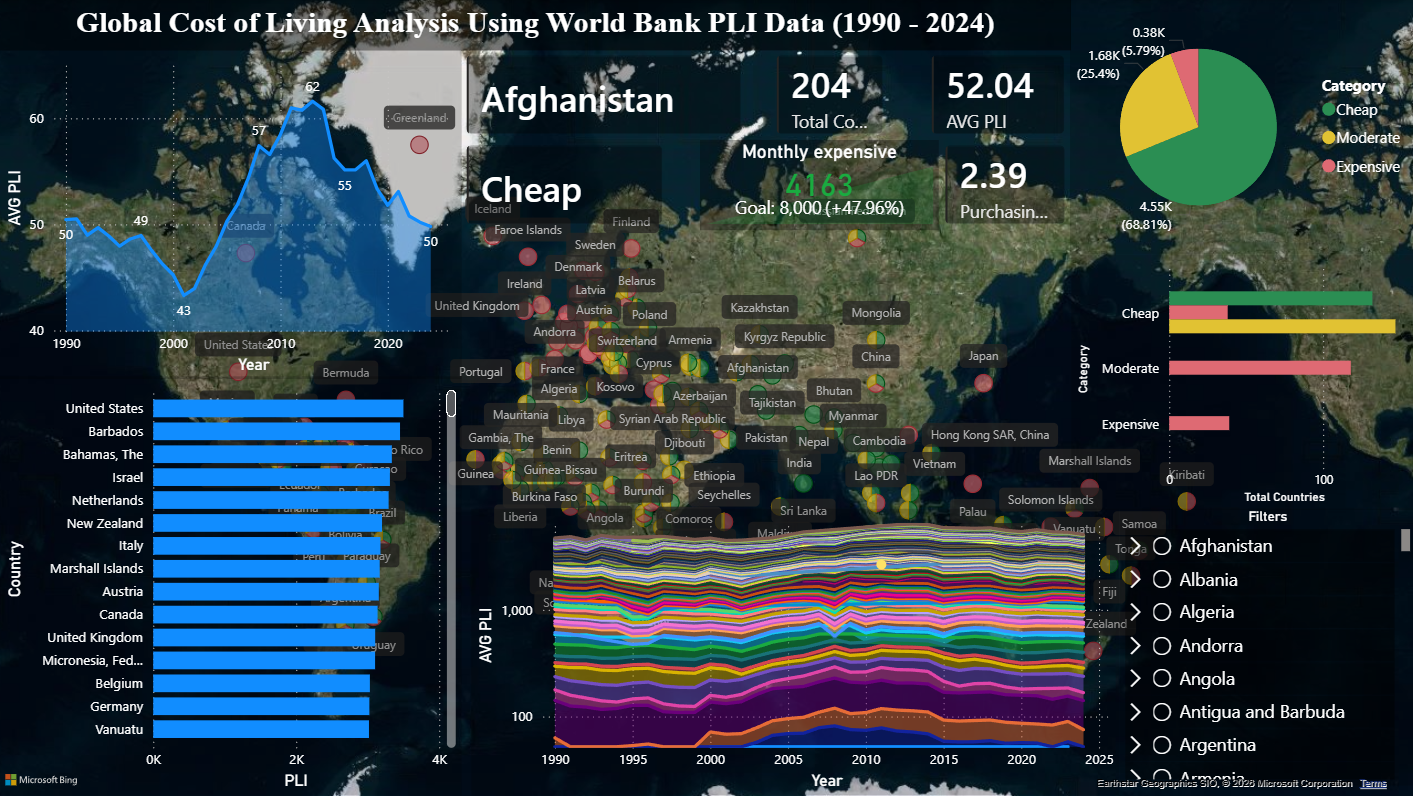

Layout of this report page (visuals, bound fields, positions):
{"tool":"powerbi","page":{"name":"Page 1","canvas":[1280,720],"ordinal":0},"visuals":[{"type":"cardVisual","fields":{"Data":["filtered_data.AVG PLI","filtered_data.Purchasing Power"]},"box":[974.4,0,305.8,81.4],"z":0},{"type":"areaChart","fields":{"Category":["filtered_data.Year"],"Y":["filtered_data.AVG PLI"]},"box":[0,81.4,417.4,297.7],"z":1000},{"type":"map","fields":{"Category":["filtered_data.Country"],"Series":["filtered_data.Dynamic_Category"]},"box":[397.9,378.7,570.8,341.7],"z":2000},{"type":"barChart","fields":{"Category":["filtered_data.Country"],"Y":["Sum(filtered_data.PLI)"]},"box":[0,460.5,397.7,259.3],"z":3000},{"type":"pieChart","fields":{"Category":["filtered_data.Category"],"Y":["CountNonNull(filtered_data.Country)"]},"box":[967.8,81.4,312.1,188.8],"z":4000},{"type":"listSlicer","title":"Filters","fields":{"Values":["filtered_data.Country","filtered_data.Category"]},"box":[968.6,510.5,311.6,209.3],"z":5000},{"type":"clusteredBarChart","fields":{"Category":["filtered_data.Category"],"Series":["filtered_data.Dynamic_Category"],"Y":["filtered_data.Total Countries"]},"box":[968.6,269.8,311.6,241.9],"z":6000},{"type":"stackedAreaChart","fields":{"Category":["filtered_data.Year"],"Series":["filtered_data.Country"],"Y":["filtered_data.AVG PLI"]},"box":[417.2,81.4,551.8,297.4],"z":7000},{"type":"cardVisual","fields":{"Data":["Min(filtered_data.Country)"]},"box":[0,0,216.3,81.4],"z":8000},{"type":"cardVisual","fields":{"Data":["filtered_data.Total Countries"]},"box":[208.1,0,120.9,81.4],"z":9000},{"type":"textbox","box":[329.1,0,661.6,81.4],"z":10000},{"type":"cardVisual","fields":{"Data":["Min(filtered_data.Dynamic_Category)"]},"box":[0,379.1,181.4,81.4],"z":10001},{"type":"kpi","title":"Monthly expensive","fields":{"Goal":["Base Cost.Base Cost Value"],"TrendLine":["Base Cost.Base Cost"],"Indicator":["Base Cost.Monthly_Cost"]},"box":[181.4,379.1,216.3,81.4],"z":10002}]}

Visuals, with their boxes in screenshot pixels (x1, y1, x2, y2), scaled from the page's 1280x720 canvas onto the 1413x796 screenshot:
cardVisual - filtered_data.AVG PLI x filtered_data.Purchasing Power: {"x1": 1076, "y1": 0, "x2": 1412, "y2": 90}
areaChart - filtered_data.Year x filtered_data.AVG PLI: {"x1": 0, "y1": 90, "x2": 461, "y2": 419}
map - filtered_data.Country x filtered_data.Dynamic_Category: {"x1": 439, "y1": 419, "x2": 1069, "y2": 795}
barChart - filtered_data.Country x Sum(filtered_data.PLI): {"x1": 0, "y1": 509, "x2": 439, "y2": 795}
pieChart - filtered_data.Category x CountNonNull(filtered_data.Country): {"x1": 1068, "y1": 90, "x2": 1412, "y2": 299}
"Filters" listSlicer: {"x1": 1069, "y1": 564, "x2": 1412, "y2": 795}
clusteredBarChart - filtered_data.Category x filtered_data.Dynamic_Category: {"x1": 1069, "y1": 298, "x2": 1412, "y2": 566}
stackedAreaChart - filtered_data.Year x filtered_data.Country: {"x1": 461, "y1": 90, "x2": 1070, "y2": 419}
cardVisual - Min(filtered_data.Country): {"x1": 0, "y1": 0, "x2": 239, "y2": 90}
cardVisual - filtered_data.Total Countries: {"x1": 230, "y1": 0, "x2": 363, "y2": 90}
textbox: {"x1": 363, "y1": 0, "x2": 1094, "y2": 90}
cardVisual - Min(filtered_data.Dynamic_Category): {"x1": 0, "y1": 419, "x2": 200, "y2": 509}
"Monthly expensive" kpi: {"x1": 200, "y1": 419, "x2": 439, "y2": 509}
